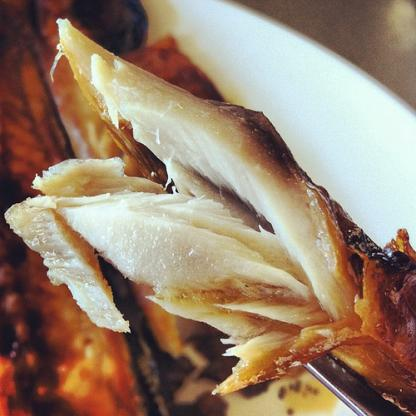Peixe: (5, 16, 406, 404)
